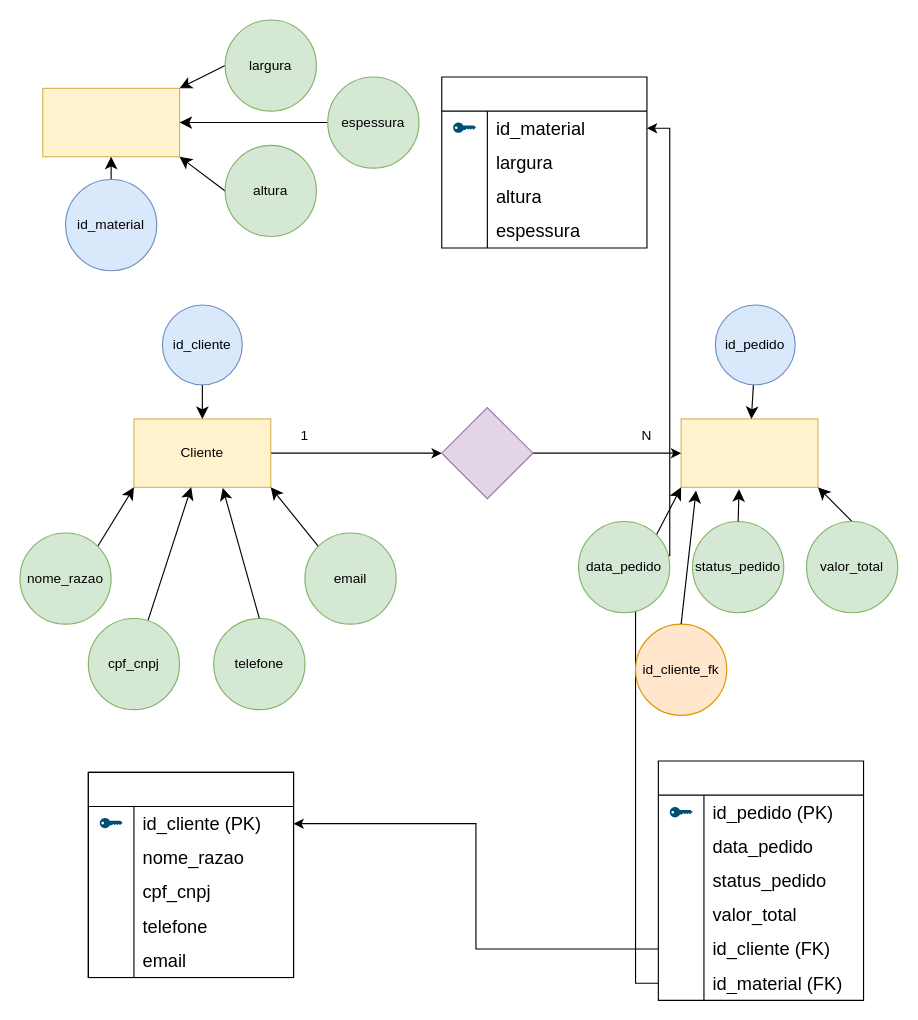
Image size: 918x1020. Some labels were removed from this diagram. Here are the shapes that lost their labels. From the top down, the box of each, then its label:
(42, 87, 180, 157): Material
(441, 76, 647, 248): tbl_material
(441, 406, 533, 499): Faz
(680, 418, 818, 487): Pedido
(87, 771, 294, 978): tbl_cliente
(657, 760, 864, 1000): tbl_pedido
